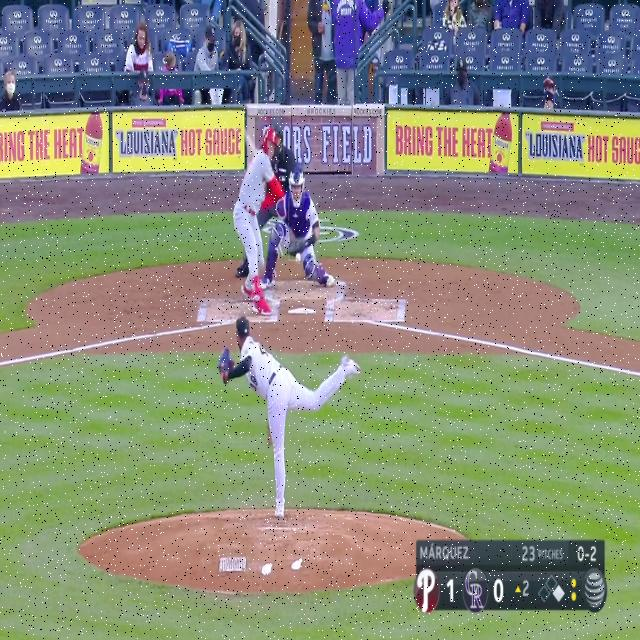baseball: (294, 252, 302, 264)
